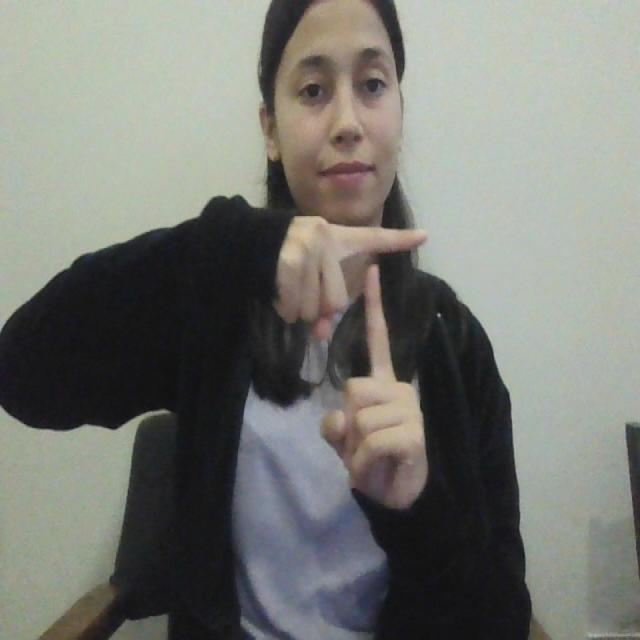Tesekkurler: (316, 192, 434, 387)
